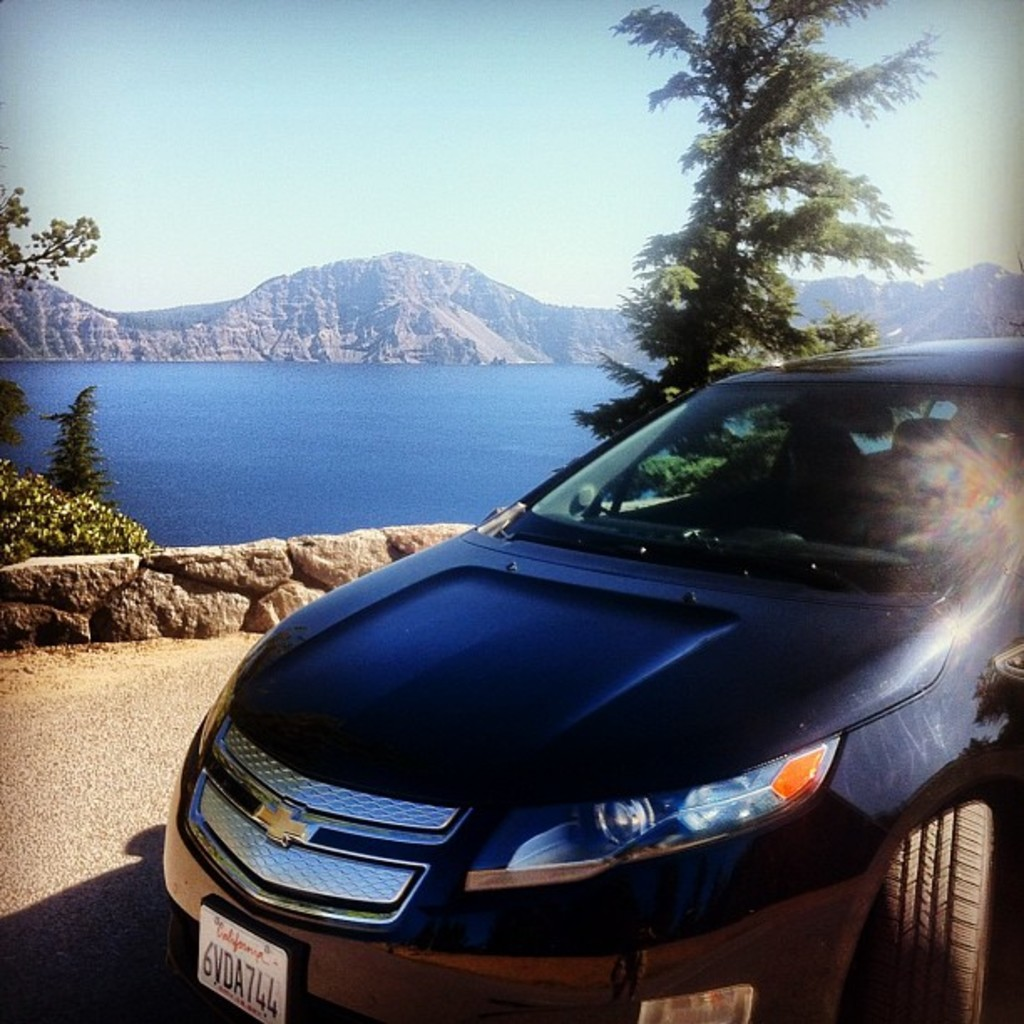Tree: (554, 0, 943, 498), (0, 160, 99, 316), (50, 383, 117, 499), (0, 382, 26, 452)
